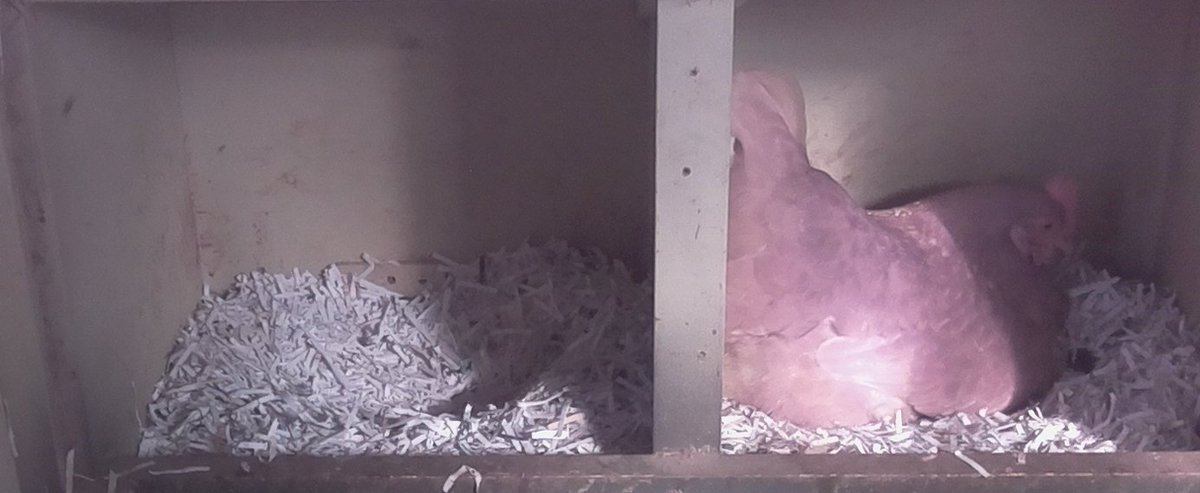hen: (733, 66, 1086, 437)
